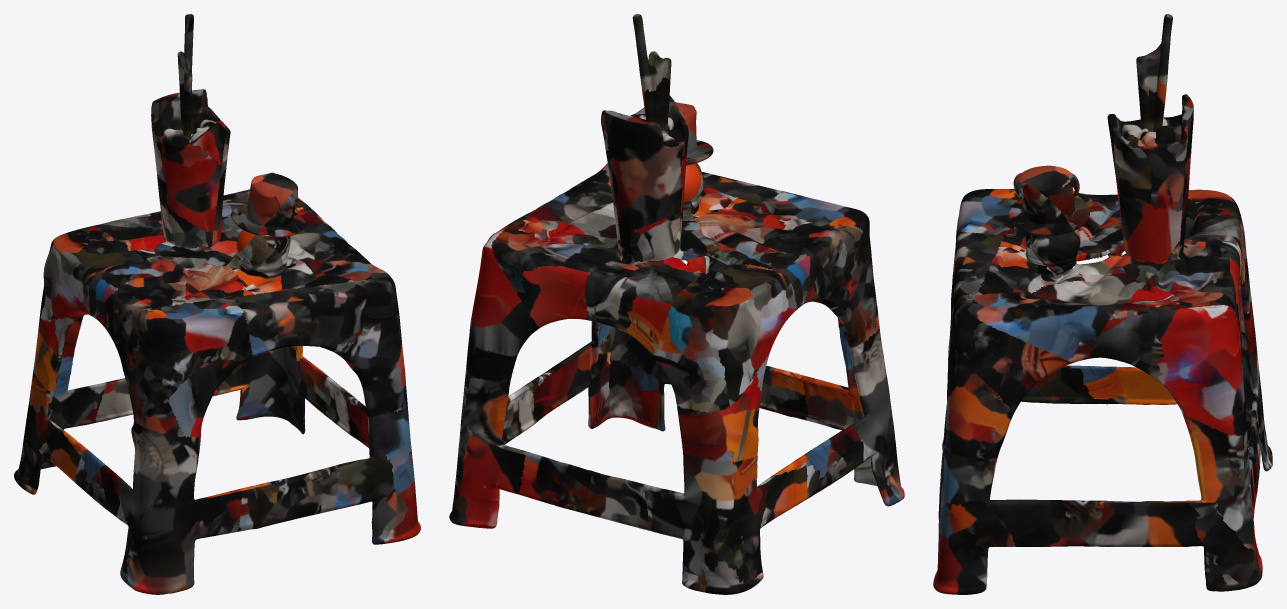
File: ghedacafe.fbx
3 renders of one model, left to right at view 1: azimuth 30°, elevation 25°; view 2: azimuth 150°, elevation 25°; view 3: azimuth 270°, elevation 25°, orthographic. The views are drawn at different scales.
Parts seen in each view (by area): view 1: tripo_node_4a62af5a-0851-46e3-a0ce-7c3a7ddb9955; view 2: tripo_node_4a62af5a-0851-46e3-a0ce-7c3a7ddb9955; view 3: tripo_node_4a62af5a-0851-46e3-a0ce-7c3a7ddb9955.
Boxes of the visible parts, bbox=[...] form: tripo_node_4a62af5a-0851-46e3-a0ce-7c3a7ddb9955: bbox=[14, 14, 420, 594]; tripo_node_4a62af5a-0851-46e3-a0ce-7c3a7ddb9955: bbox=[449, 14, 904, 594]; tripo_node_4a62af5a-0851-46e3-a0ce-7c3a7ddb9955: bbox=[933, 14, 1272, 594].
Bounding box in the file's own units: 62.97 × 100 × 59.72.
